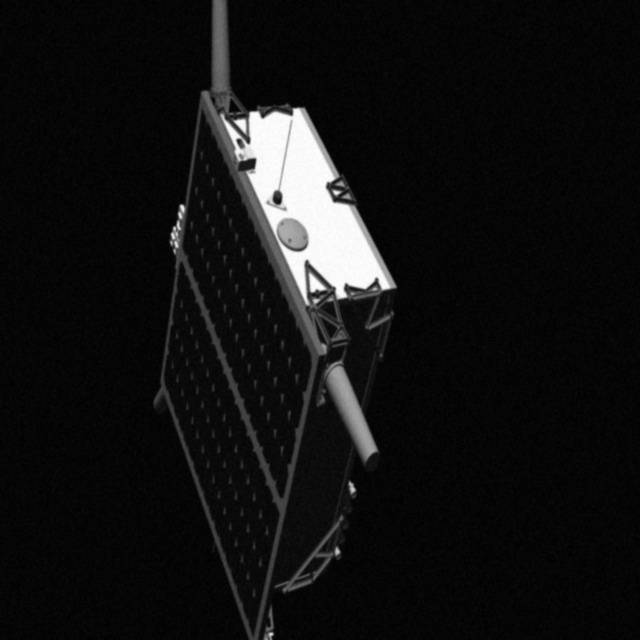satellite: (146, 0, 398, 640)
